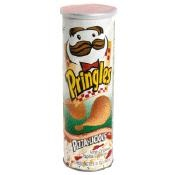grozi_36: (59, 4, 116, 172)
